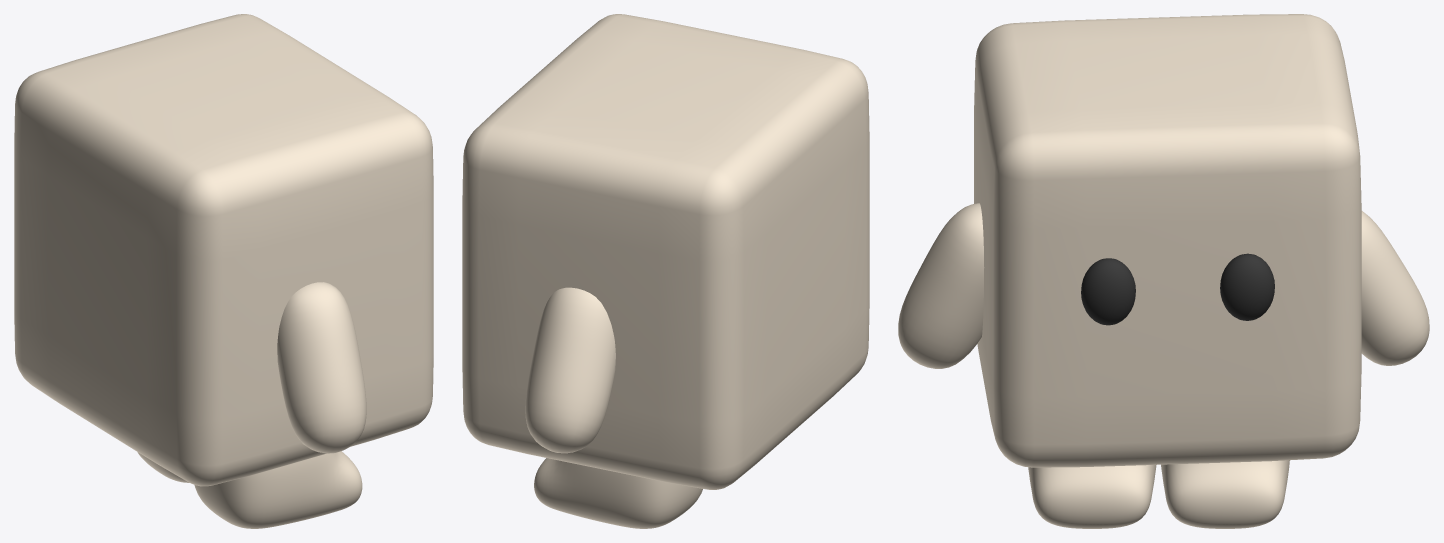
The model's file is 당당이default.glb.
3 renders of one model, left to right at view 1: azimuth 30°, elevation 25°; view 2: azimuth 150°, elevation 25°; view 3: azimuth 270°, elevation 25°, orthographic. The views are drawn at different scales.
Parts seen in each view (by area): view 1: Cube, Cube.001, Cube.004; view 2: Cube, Cube.002, Cube.005; view 3: Cube, Cube.001, Cube.005, Cube.002, Cube.004, Sphere, Sphere.001.
Boxes of the visible parts, box(x1,y1,x2,y2) form: Cube: box(14, 14, 433, 486); Cube.001: box(277, 282, 366, 453); Cube.004: box(194, 451, 362, 528); Cube: box(462, 14, 869, 489); Cube.002: box(525, 287, 615, 453); Cube.005: box(534, 458, 702, 528); Cube: box(974, 14, 1361, 467); Cube.001: box(898, 203, 984, 368); Cube.005: box(1161, 460, 1289, 528); Cube.002: box(1361, 211, 1429, 365); Cube.004: box(1028, 465, 1156, 528); Sphere: box(1081, 258, 1135, 325); Sphere.001: box(1220, 253, 1274, 320).
Bounding box in the file's own units: 1.98 × 2.49 × 2.83.
Materials: 7 (7 with a texture image).
